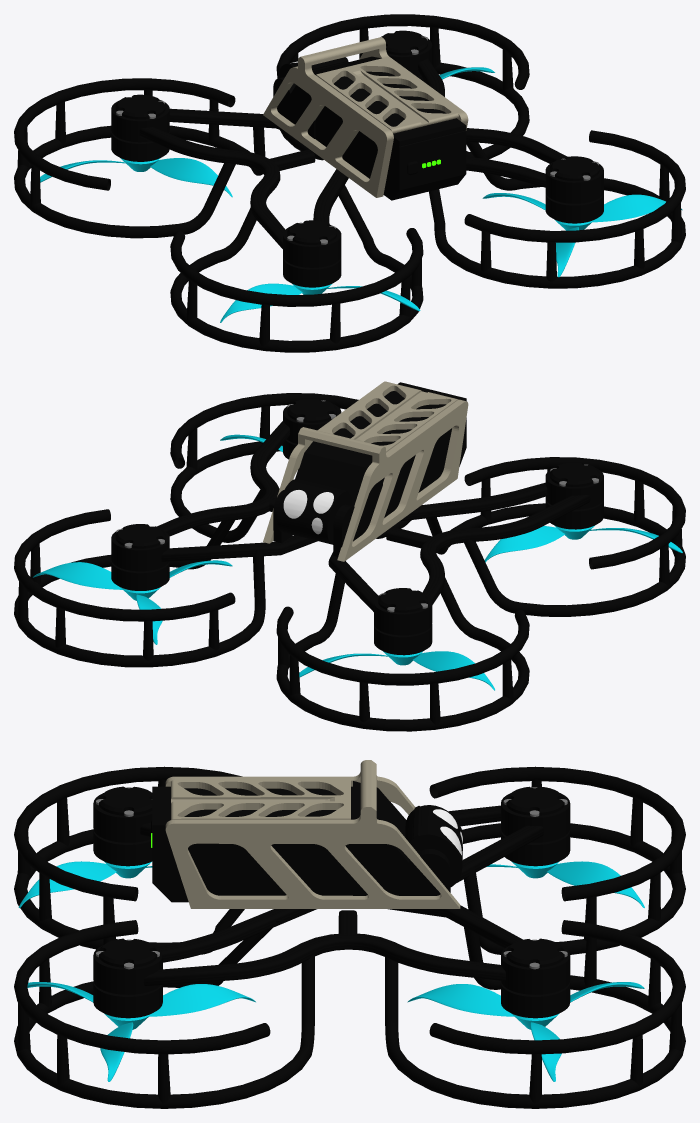
File: drone.glb
3 views of the same model, one above another, from view 1: azimuth 30°, elevation 25°; view 2: azimuth 150°, elevation 25°; view 3: azimuth 270°, elevation 25° (orthographic). The views are drawn at different scales.
Visible parts, largest first — view 1: External body, Middle body, Body frame, motar holder, Circuit box, Propeller, Motar, Camera holder; view 2: External body, Middle body, Body frame, motar holder, Propeller, Camera holder, Motar, Camera, Circuit box; view 3: External body, Middle body, Body frame, motar holder, Propeller, Circuit box, Motar, Camera holder, Camera.
Boxes of the visible parts, left/top/right/bottom form: External body: left=14, top=14, right=685, bottom=352; Middle body: left=263, top=37, right=468, bottom=197; Body frame: left=139, top=58, right=567, bottom=248; motar holder: left=111, top=30, right=603, bottom=267; Circuit box: left=315, top=71, right=466, bottom=200; Propeller: left=40, top=67, right=682, bottom=322; Motar: left=111, top=75, right=603, bottom=287; Camera holder: left=273, top=56, right=381, bottom=138; External body: left=14, top=393, right=685, bottom=731; Middle body: left=263, top=381, right=468, bottom=561; Body frame: left=156, top=421, right=590, bottom=611; motar holder: left=111, top=398, right=603, bottom=635; Propeller: left=33, top=434, right=682, bottom=690; Camera holder: left=273, top=441, right=382, bottom=556; Motar: left=111, top=439, right=603, bottom=655; Camera: left=277, top=478, right=352, bottom=544; Circuit box: left=333, top=382, right=466, bottom=517; External body: left=14, top=766, right=685, bottom=1108; Middle body: left=165, top=760, right=460, bottom=908; Body frame: left=140, top=805, right=543, bottom=986; motar holder: left=93, top=786, right=570, bottom=994; Propeller: left=18, top=861, right=644, bottom=1081; Circuit box: left=152, top=786, right=352, bottom=902; Motar: left=93, top=830, right=570, bottom=1018; Camera holder: left=353, top=781, right=450, bottom=895; Camera: left=405, top=805, right=463, bottom=886.
Size of the model in its own units: 7.03 by 2.21 by 7.16.
